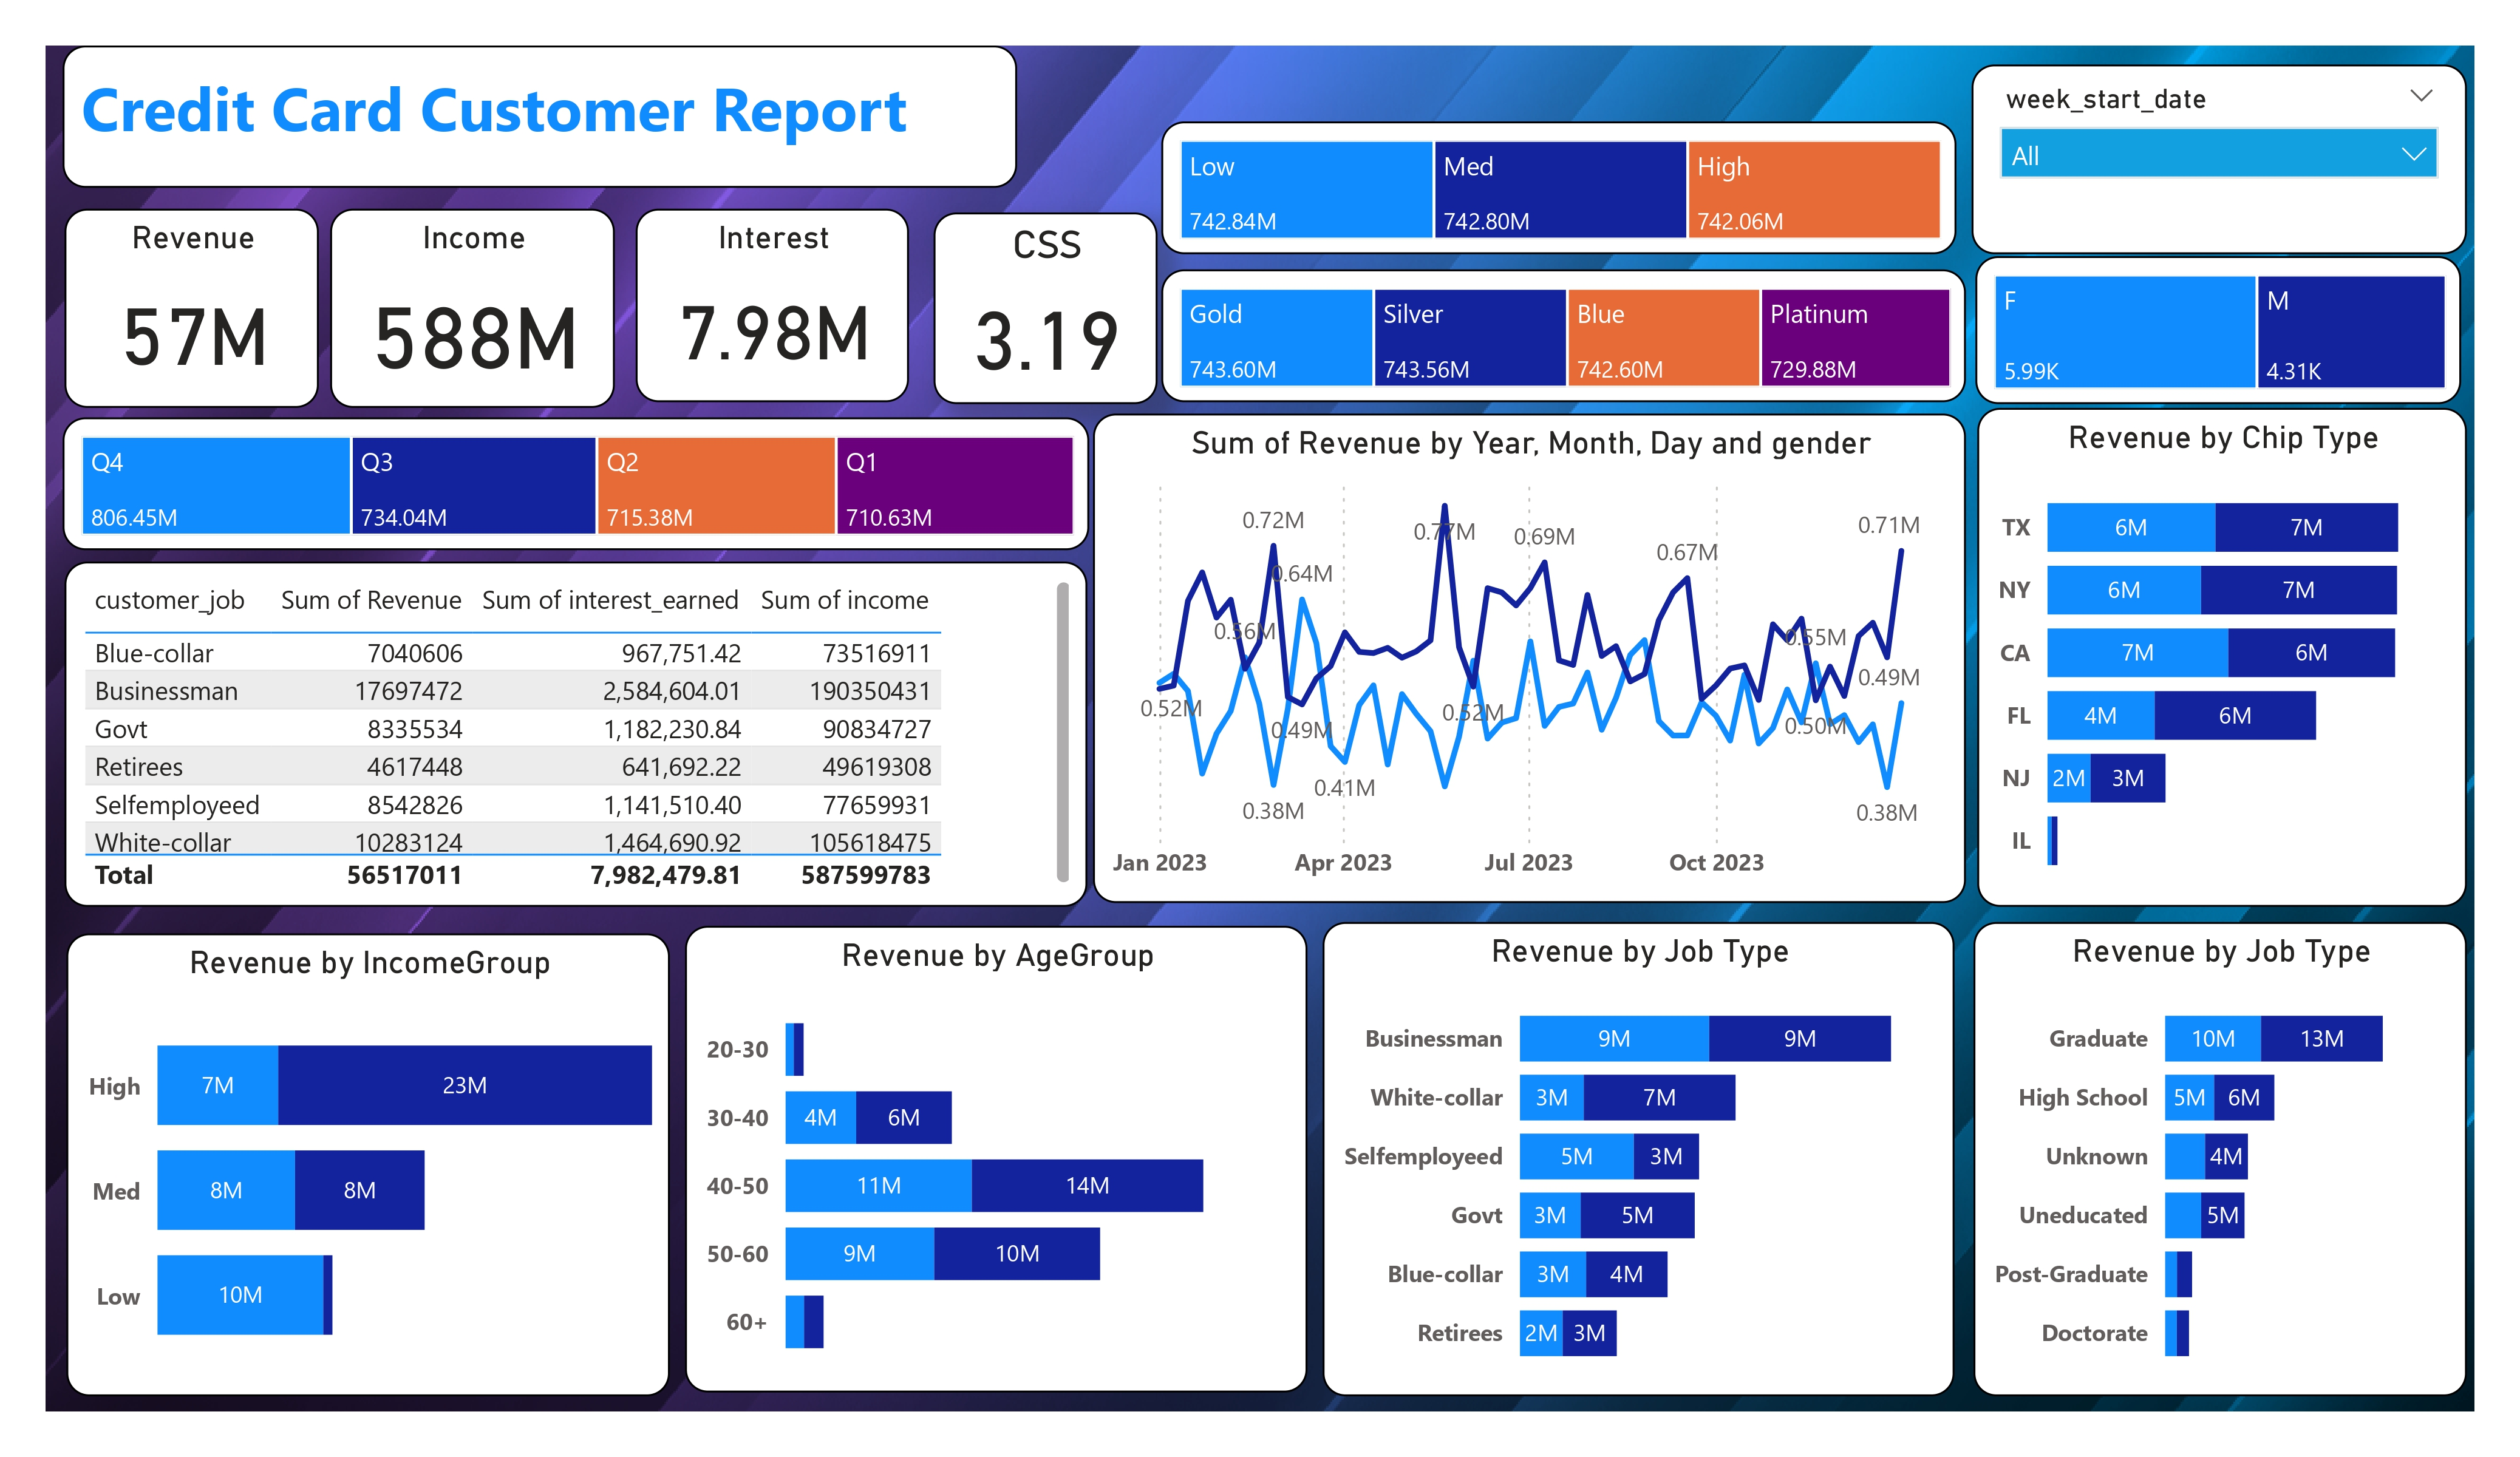

What the dashboard file says about the page in this screenshot:
{"tool":"powerbi","page":{"name":"Customer ","canvas":[1280,720],"ordinal":1},"visuals":[{"type":"textbox","box":[9.4,0,503,75.1],"z":0},{"type":"barChart","title":"Revenue by AgeGroup","fields":{"Y":["Sum(public cc_detail.Revenue)"],"Category":["public cust_detail.AgeGroup"],"Series":["public cust_detail.gender"]},"box":[337.2,463.6,327.5,246.7],"z":2000},{"type":"barChart","title":"Revenue by IncomeGroup","fields":{"Y":["Sum(public cc_detail.Revenue)"],"Category":["public cust_detail.IncomeGroup"],"Series":["public cust_detail.gender"]},"box":[10.5,468,318.7,244.1],"z":3000},{"type":"barChart","title":"Revenue by Job Type","fields":{"Y":["Sum(public cc_detail.Revenue)"],"Category":["public cust_detail.customer_job"],"Series":["public cust_detail.gender"]},"box":[672.6,461.9,333.7,250.2],"z":4000},{"type":"barChart","title":"Revenue by Job Type","fields":{"Y":["Sum(public cc_detail.Revenue)"],"Category":["public cust_detail.education_level"],"Series":["public cust_detail.gender"]},"box":[1015.9,461.9,259.9,250.2],"z":5000},{"type":"barChart","title":"Revenue by Chip Type","fields":{"Y":["Sum(public cc_detail.Revenue)"],"Category":["public cust_detail.state_cd"],"Series":["public cust_detail.gender"]},"box":[1018.4,190.6,257.8,263.6],"z":6000},{"type":"tableEx","fields":{"Values":["public cust_detail.customer_job","Sum(public cc_detail.Revenue)","Sum(public cc_detail.interest_earned)","Sum(public cust_detail.income)"]},"box":[9.7,272.2,539.1,181.8],"z":7000},{"type":"card","title":"Revenue","fields":{"Values":["Sum(public cc_detail.Revenue)"]},"box":[9.7,86,134.3,104.5],"z":8000},{"type":"card","title":"CSS","fields":{"Values":["Avg(public cust_detail.cust_satisfaction_score)"]},"box":[468,87.8,117.7,101],"z":9000},{"type":"card","title":"Interest","fields":{"Values":["Sum(public cc_detail.interest_earned)"]},"box":[310.8,86,144,101.9],"z":10000},{"type":"card","title":"Income","fields":{"Values":["Sum(public cust_detail.income)"]},"box":[150.1,86,150.1,104.5],"z":11000},{"type":"slicer","fields":{"Values":["public cc_detail.week_start_date"]},"box":[1015.4,9.7,260.7,100.2],"z":12000},{"type":"treemap","fields":{"Group":["public cc_detail.qtr"],"Values":["Avg(public cc_detail.client_num)"]},"box":[8.8,195.8,540.9,70.2],"z":13000},{"type":"treemap","fields":{"Group":["public cust_detail.gender"],"Values":["CountNonNull(public cc_detail.client_num)"]},"box":[1017.4,110.9,255.8,77.8],"z":14000},{"type":"treemap","fields":{"Group":["public cc_detail.card_category"],"Values":["Avg(public cc_detail.client_num)"]},"box":[588.4,117.7,423.1,70],"z":15000},{"type":"treemap","fields":{"Group":["public cust_detail.IncomeGroup"],"Values":["Avg(public cc_detail.client_num)"]},"box":[588.4,39.9,418.2,70],"z":16000},{"type":"lineChart","fields":{"Y":["Sum(public cc_detail.Revenue)"],"Series":["public cust_detail.gender"],"Category":["public cc_detail.week_start_date.Variation.Date Hierarchy.Year","public cc_detail.week_start_date.Variation.Date Hierarchy.Month","public cc_detail.week_start_date.Variation.Date Hierarchy.Day"]},"box":[552.5,193.6,459.1,258.7],"z":17000}]}

Visuals, with their boxes in screenshot pixels (x1, y1, x2, y2):
textbox: x1=63, y1=46, x2=1018, y2=188
"Revenue by AgeGroup" barChart: x1=686, y1=925, x2=1307, y2=1393
"Revenue by IncomeGroup" barChart: x1=66, y1=934, x2=670, y2=1396
"Revenue by Job Type" barChart: x1=1322, y1=922, x2=1955, y2=1396
"Revenue by Job Type" barChart: x1=1973, y1=922, x2=2467, y2=1396
"Revenue by Chip Type" barChart: x1=1978, y1=407, x2=2467, y2=907
tableEx - public cust_detail.customer_job x Sum(public cc_detail.Revenue): x1=64, y1=562, x2=1087, y2=907
"Revenue" card: x1=64, y1=209, x2=319, y2=407
"CSS" card: x1=934, y1=212, x2=1157, y2=404
"Interest" card: x1=635, y1=209, x2=908, y2=402
"Income" card: x1=330, y1=209, x2=615, y2=407
slicer - public cc_detail.week_start_date: x1=1972, y1=64, x2=2467, y2=254
treemap - public cc_detail.qtr x Avg(public cc_detail.client_num): x1=62, y1=417, x2=1089, y2=550
treemap - public cust_detail.gender x CountNonNull(public cc_detail.client_num): x1=1976, y1=256, x2=2462, y2=404
treemap - public cc_detail.card_category x Avg(public cc_detail.client_num): x1=1162, y1=269, x2=1965, y2=402
treemap - public cust_detail.IncomeGroup x Avg(public cc_detail.client_num): x1=1162, y1=121, x2=1956, y2=254
lineChart - Sum(public cc_detail.Revenue) x public cust_detail.gender: x1=1094, y1=413, x2=1965, y2=903
